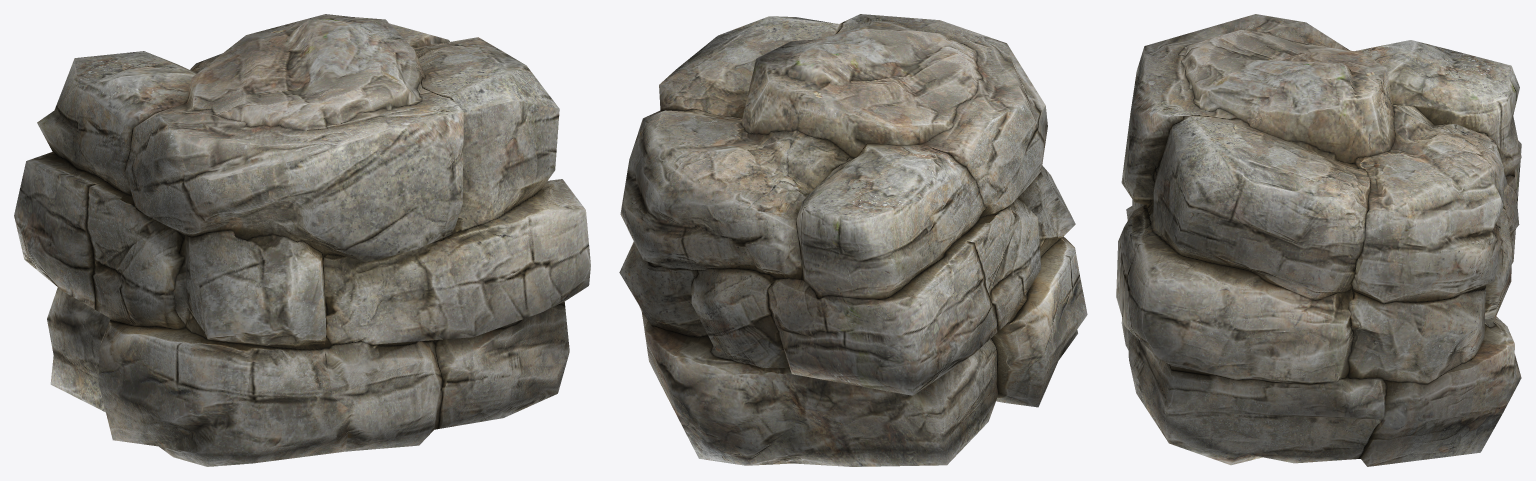
File: Cliff3.fbx
3 views of the same model, side by side, from view 1: azimuth 30°, elevation 25°; view 2: azimuth 150°, elevation 25°; view 3: azimuth 270°, elevation 25° (orthographic). The views are drawn at different scales.
Visible parts, largest first — view 1: Cliff3_700_tris_Group48673; view 2: Cliff3_700_tris_Group48673; view 3: Cliff3_700_tris_Group48673.
Part boxes in pixels (x1,y1,x2,y2): Cliff3_700_tris_Group48673: [14, 14, 590, 466]; Cliff3_700_tris_Group48673: [619, 14, 1087, 466]; Cliff3_700_tris_Group48673: [1116, 14, 1521, 466].
Bounding box in the file's own units: 6.04 × 5.48 × 5.5.
1 material, 1 textured.
